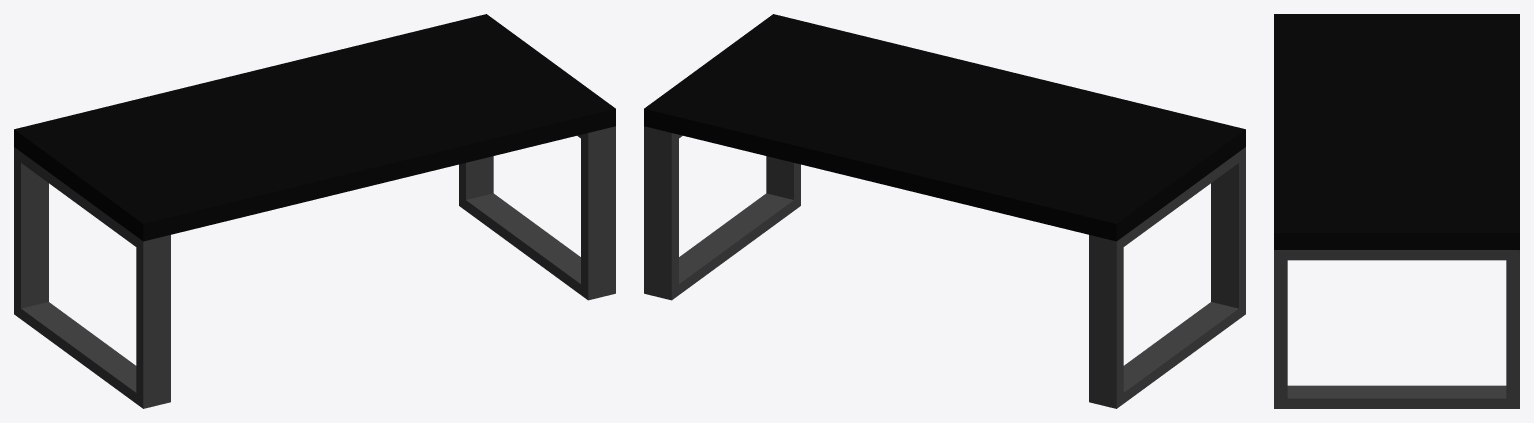
Rendered from TableC.FBX.
3 views of the same model, side by side, from view 1: azimuth 30°, elevation 25°; view 2: azimuth 150°, elevation 25°; view 3: azimuth 270°, elevation 25° (orthographic). The views are drawn at different scales.
Visible parts, largest first — view 1: TableA; view 2: TableA; view 3: TableA.
Part boxes in pixels (bbox=[...]): TableA: bbox=[14, 14, 615, 408]; TableA: bbox=[644, 14, 1245, 408]; TableA: bbox=[1274, 14, 1519, 408].
Bounding box in the file's own units: 119 × 44.71 × 56.63.
